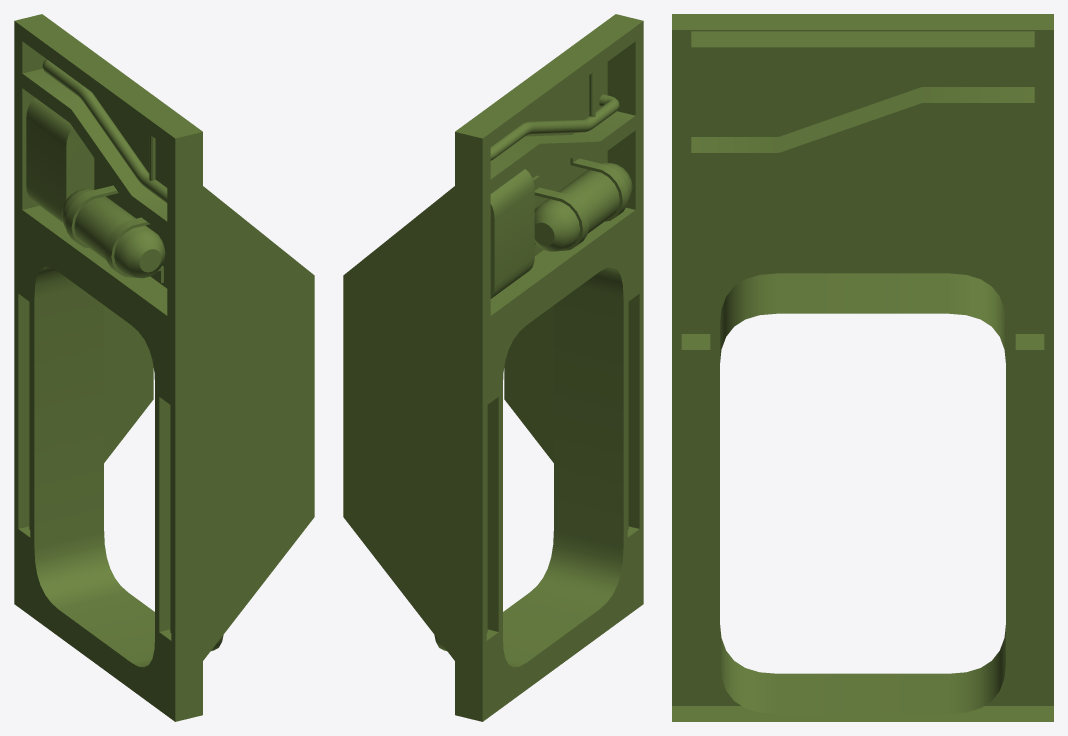
The model's file is Wall_A_4x2m_DoorA.FBX.
3 renders of one model, left to right at view 1: azimuth 30°, elevation 25°; view 2: azimuth 150°, elevation 25°; view 3: azimuth 270°, elevation 25°, orthographic. The views are drawn at different scales.
Parts seen in each view (by area): view 1: Wall_A_4x2m_DoorA; view 2: Wall_A_4x2m_DoorA; view 3: Wall_A_4x2m_DoorA.
Boxes of the visible parts, x1,y1,x2,y2 form: Wall_A_4x2m_DoorA: [14, 14, 314, 721]; Wall_A_4x2m_DoorA: [343, 14, 643, 721]; Wall_A_4x2m_DoorA: [672, 14, 1053, 721].
Size of the model in its own units: 118 by 400 by 200.
